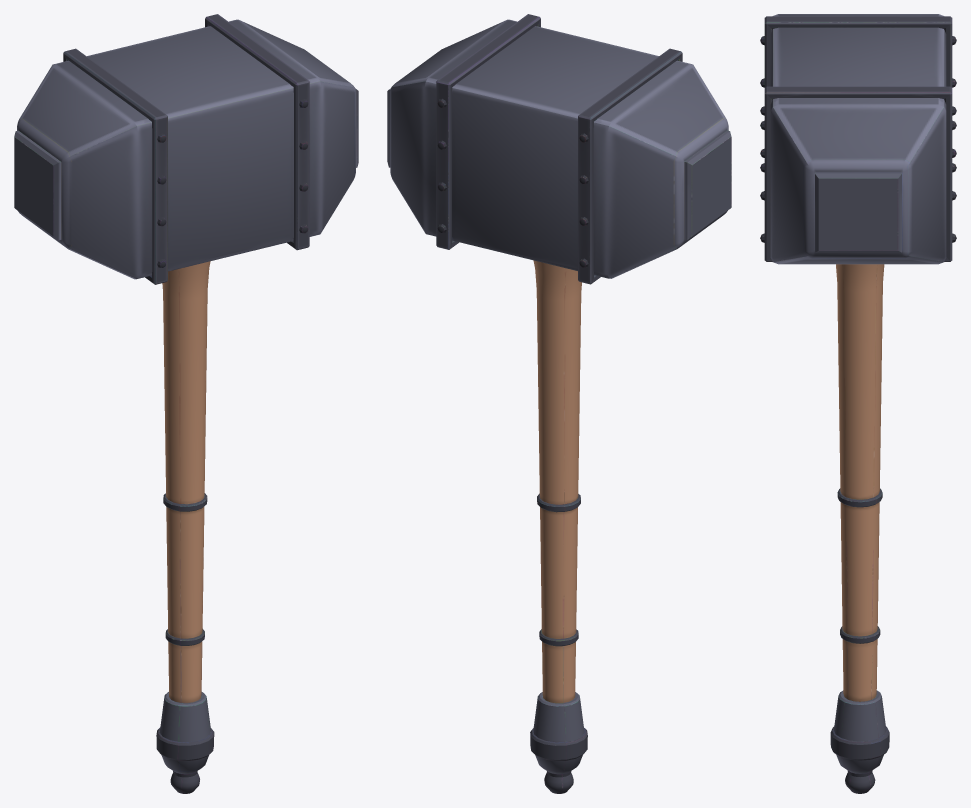
File: MarteloGenerico.fbx
3 renders of one model, left to right at view 1: azimuth 30°, elevation 25°; view 2: azimuth 150°, elevation 25°; view 3: azimuth 270°, elevation 25°, orthographic.
Parts seen in each view (by area): view 1: Martelo; view 2: Martelo; view 3: Martelo.
Part boxes in pixels (<box>): Martelo: <box>14,14,358,793</box>; Martelo: <box>387,14,731,793</box>; Martelo: <box>760,14,956,793</box>.
Bounding box in the file's own units: 48.37 × 110 × 26.58.
1 material, 1 textured.
